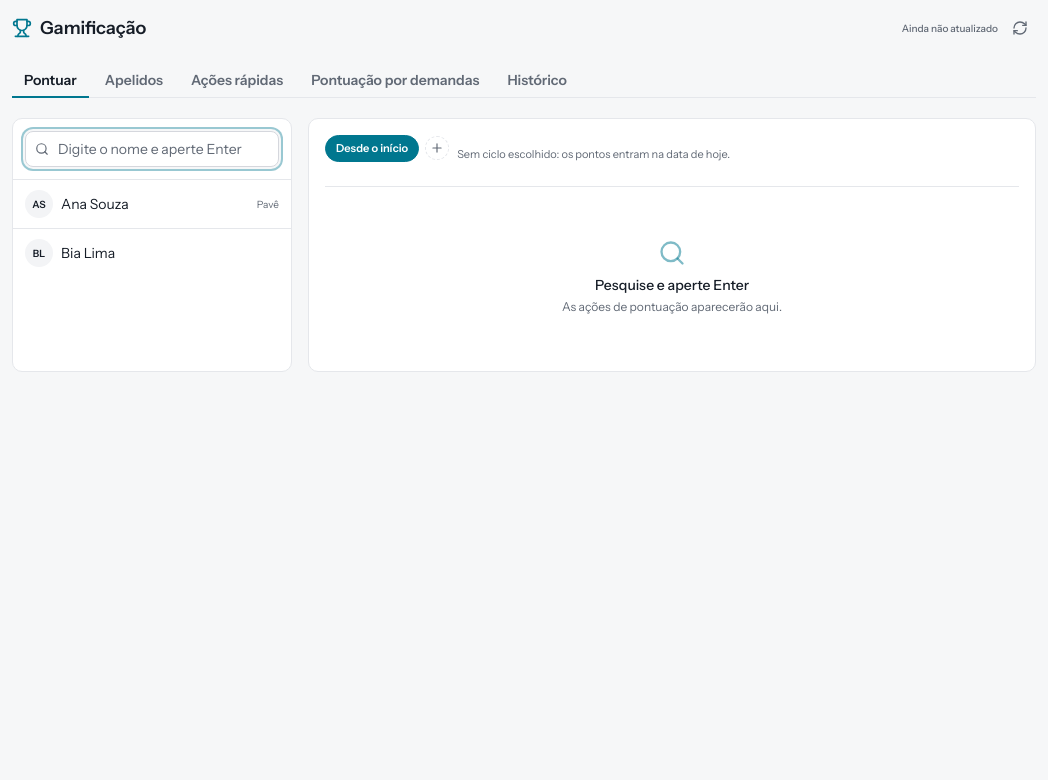
Scenario: fila de aprovação dos diretores › lista quem está esperando e o que pediu
Click the button "Apelidos". click: (134, 81)
box: [93,64,175,98]
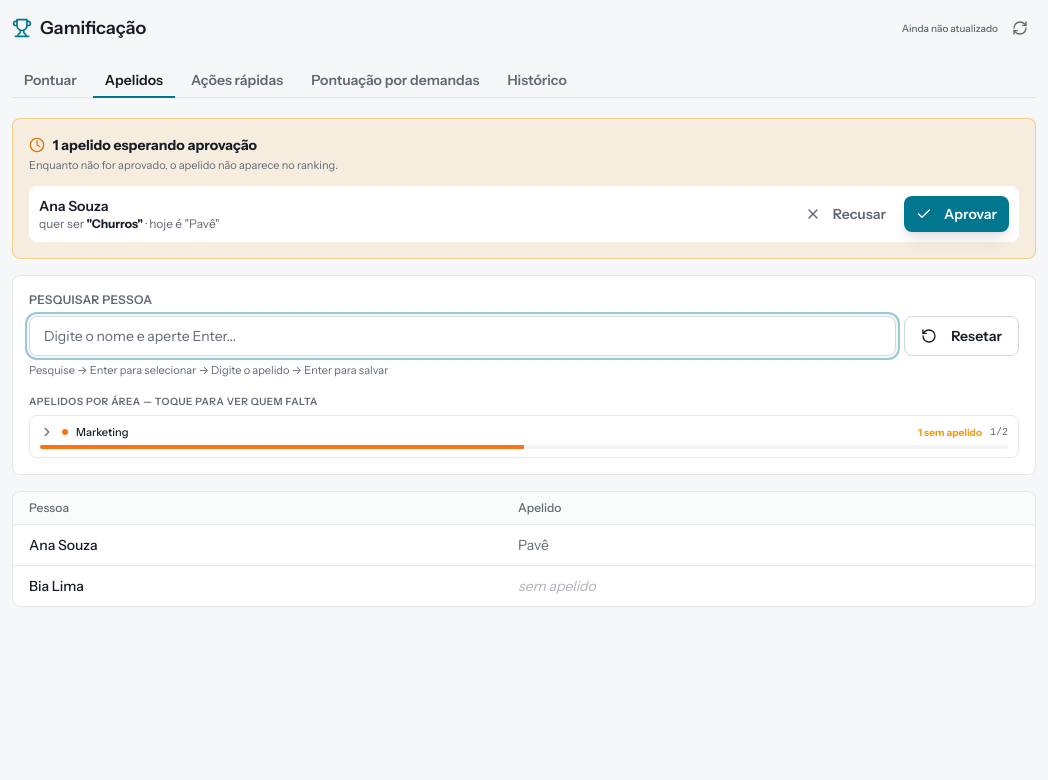
Expected: the text "Ana Souza" is shown, [39,196,108,214]
Expected: the text "\"Churros\"" is shown, [86,216,143,230]
